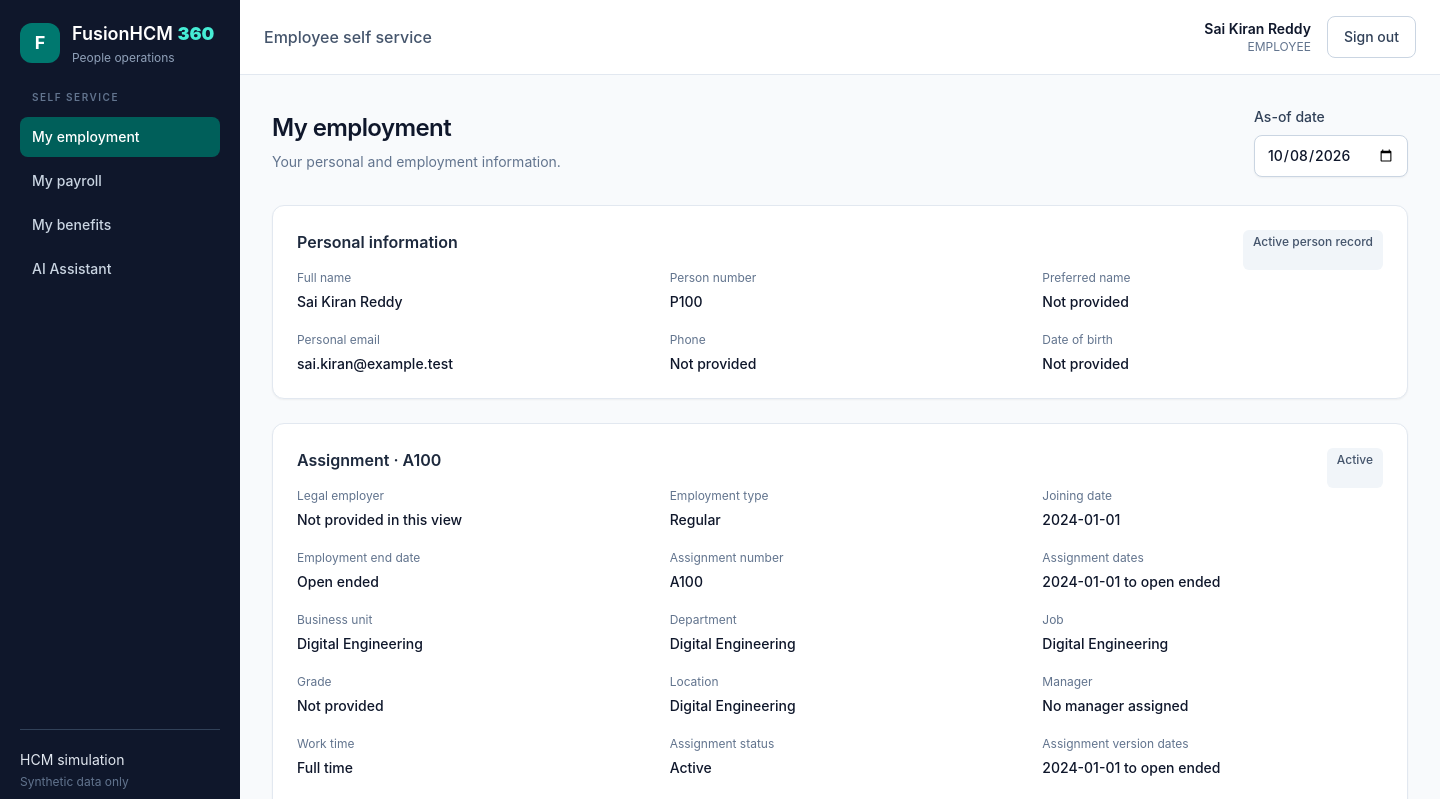
role-aware workspace › restores auth then logs out and removes private content
Expected: the heading "Personal information" is shown, [297,230,458,254]
Step 1. Click the button "Sign out" → (1372, 37), box [1327,16,1416,58]
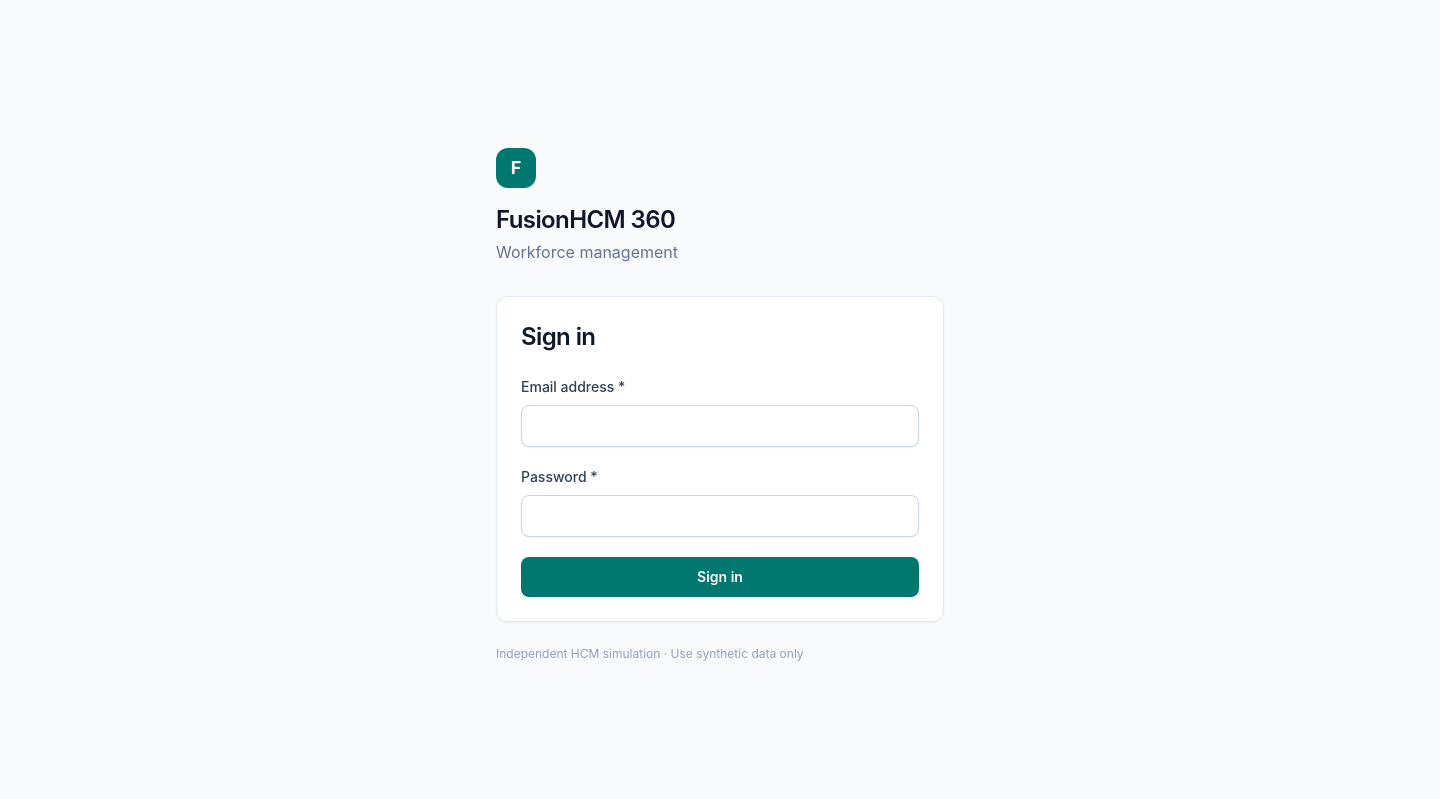
Now the heading "Sign in" is shown, box [521,322,595,351]
Now the heading "Personal information" is gone
